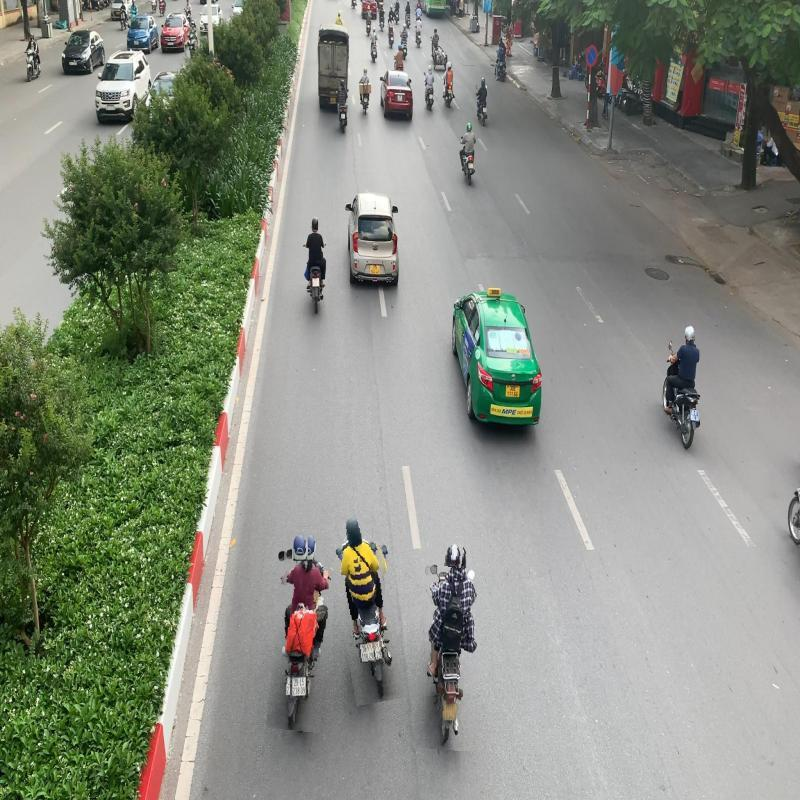helmet: (443, 542, 462, 568), (291, 535, 308, 561), (684, 324, 697, 343)
licenseplate: (290, 676, 308, 698), (358, 643, 376, 663), (690, 410, 700, 424)
motorcyclist: (416, 542, 484, 751), (332, 516, 400, 705), (271, 532, 335, 732), (661, 324, 702, 451)
